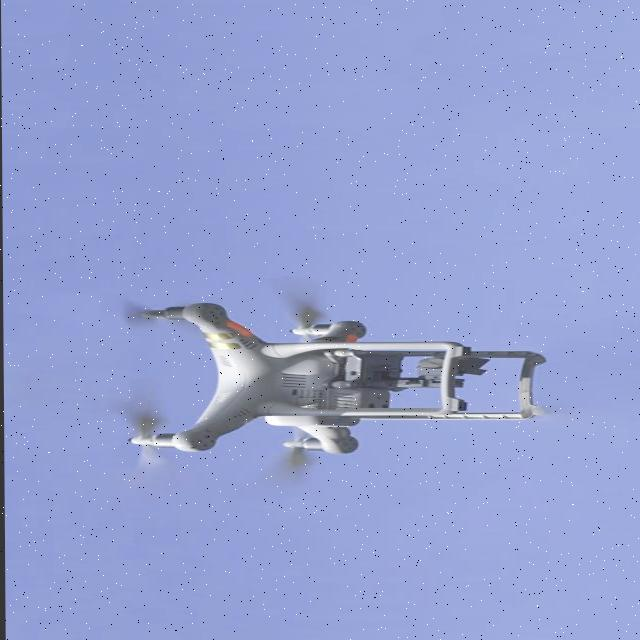drone: (102, 256, 412, 499)
